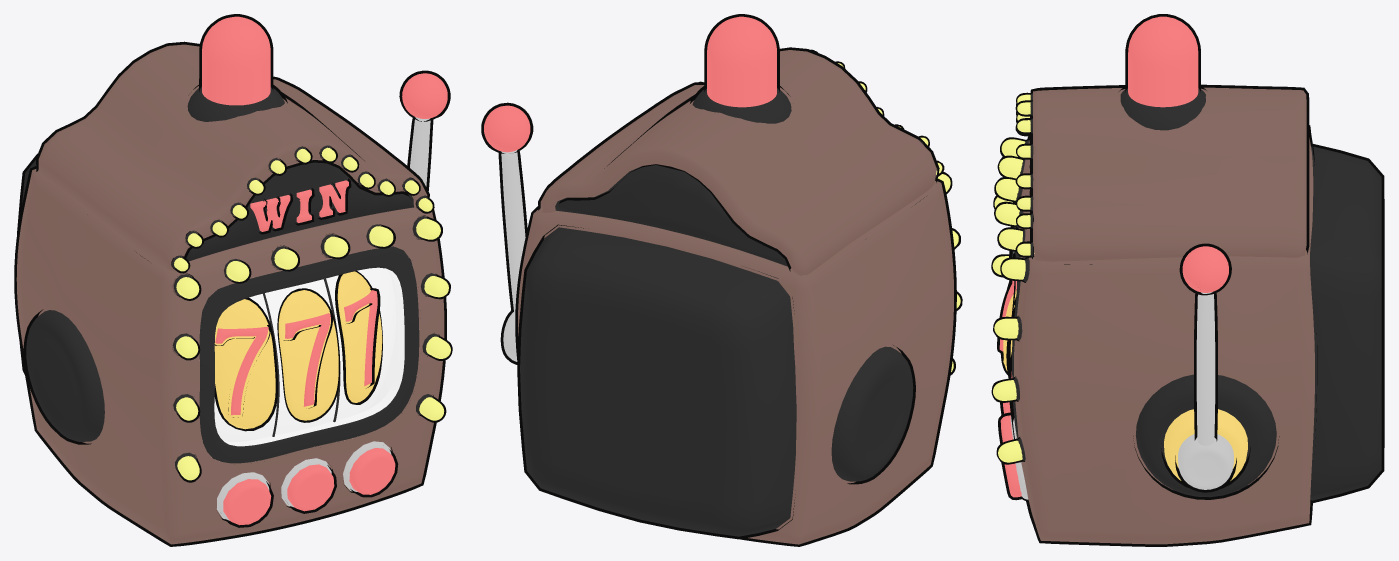
File: HEAD.MATHS.CASINO.glb
3 views of the same model, side by side, from view 1: azimuth 30°, elevation 25°; view 2: azimuth 150°, elevation 25°; view 3: azimuth 270°, elevation 25° (orthographic).
Parts seen in each view (by area): view 1: HEAD.MATHS.CASINO; view 2: HEAD.MATHS.CASINO; view 3: HEAD.MATHS.CASINO.
Part boxes in pixels (x1,y1,x2,y2): HEAD.MATHS.CASINO: [14, 14, 452, 546]; HEAD.MATHS.CASINO: [481, 14, 962, 546]; HEAD.MATHS.CASINO: [991, 14, 1384, 546].
Size of the model in its own units: 1.66 by 1.87 by 1.4.
